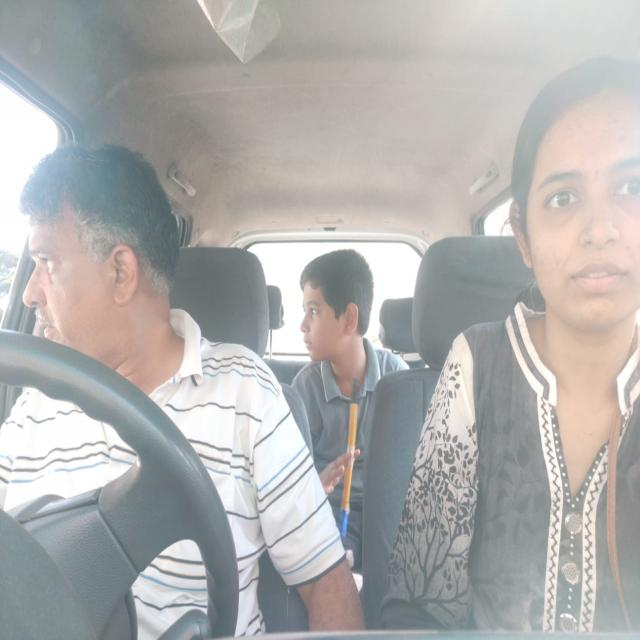LeftRight: (16, 147, 178, 351)
person: (506, 50, 640, 310), (293, 255, 381, 362)
